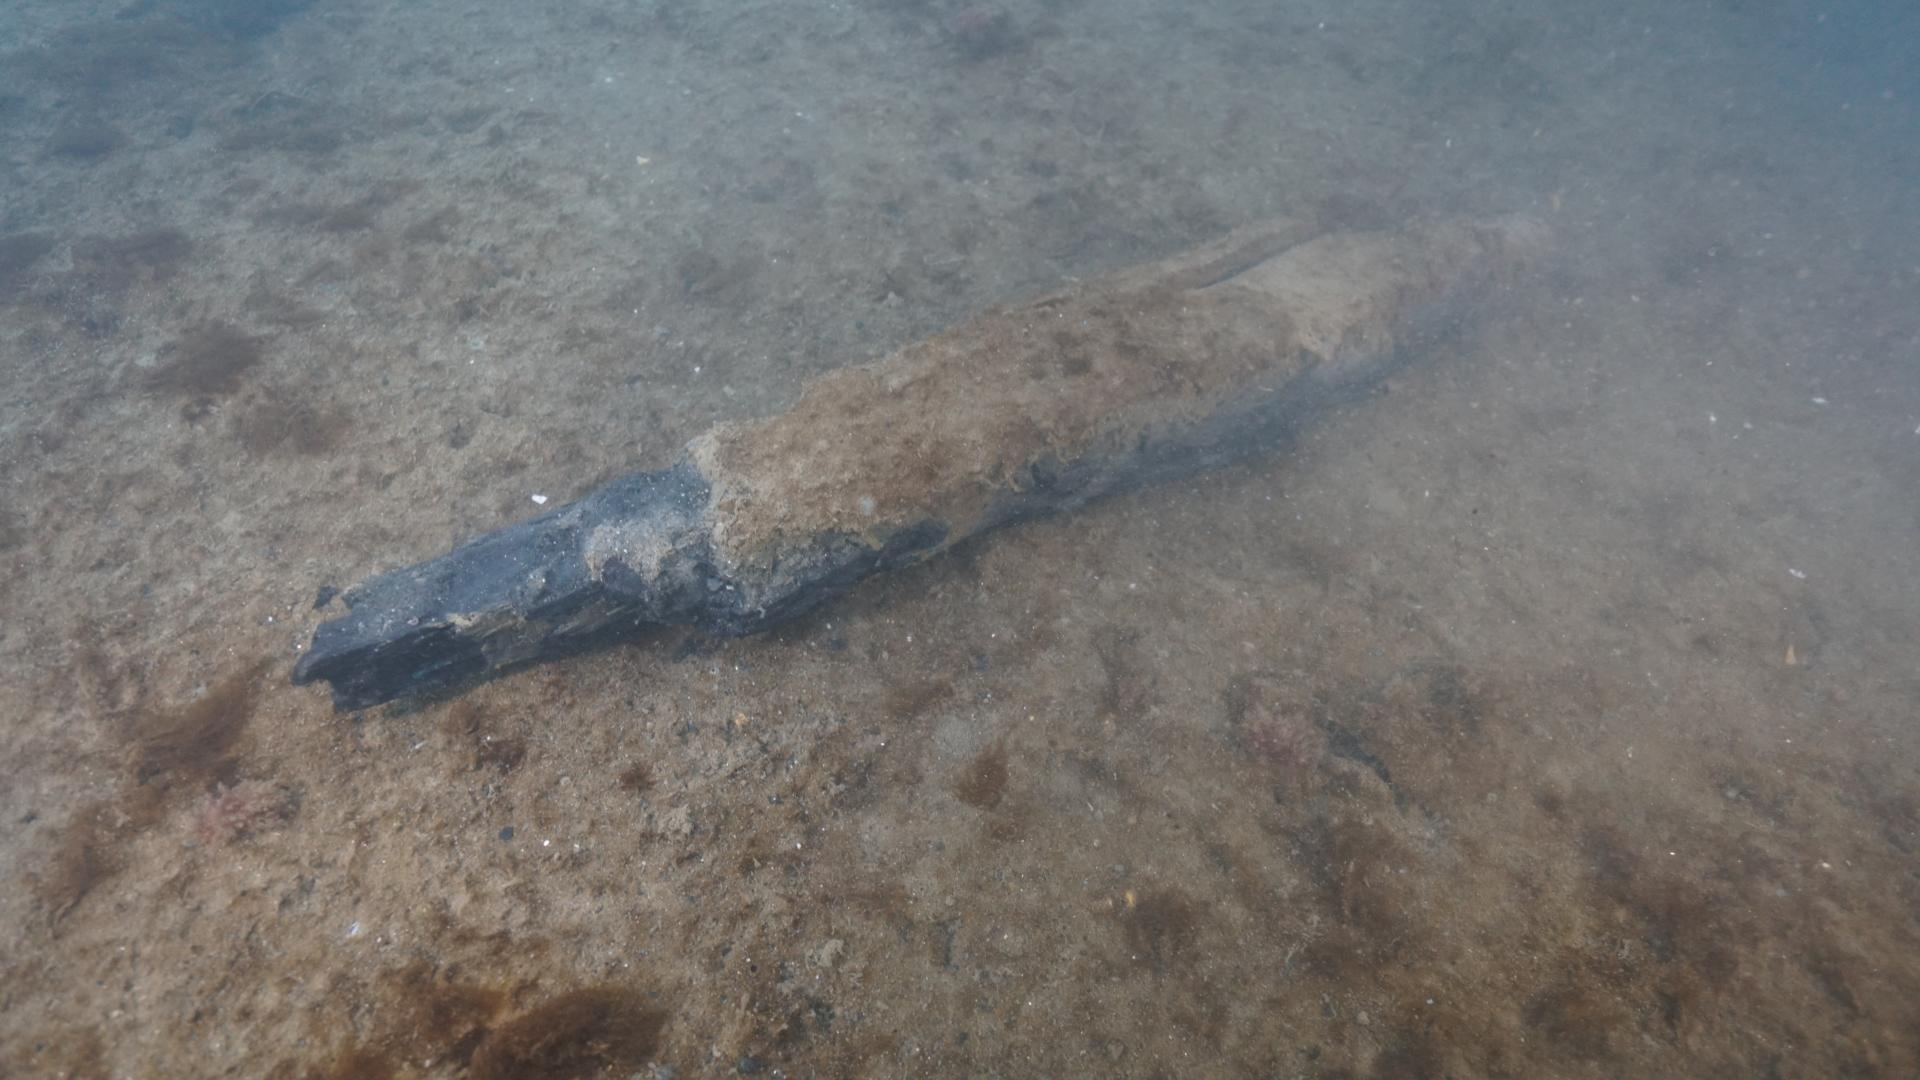wood: (269, 183, 1560, 717)
